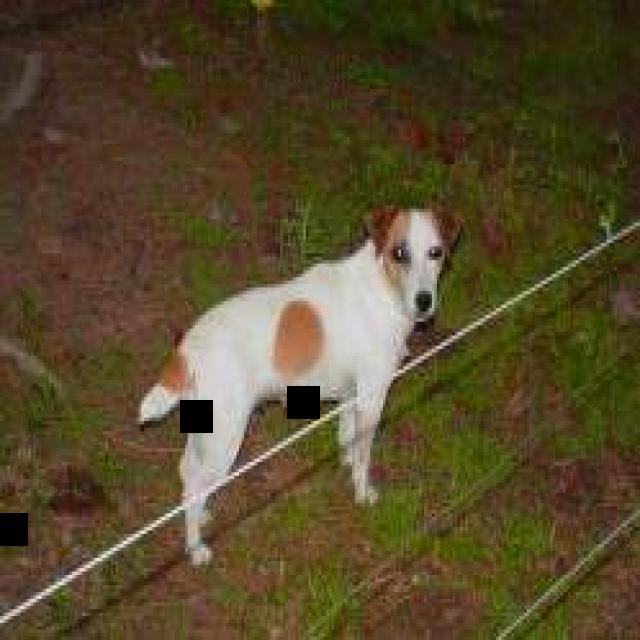adult_dog: (134, 198, 463, 567)
